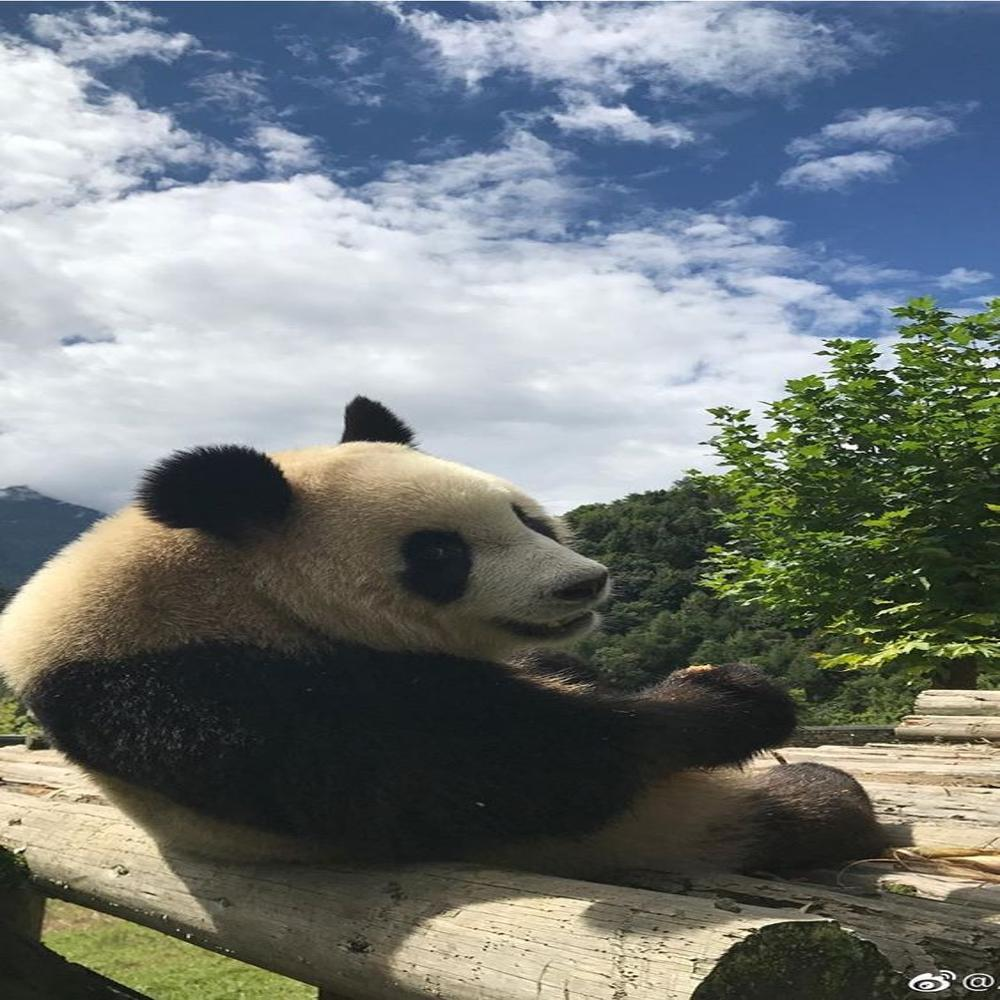panda: (0, 388, 921, 884)
